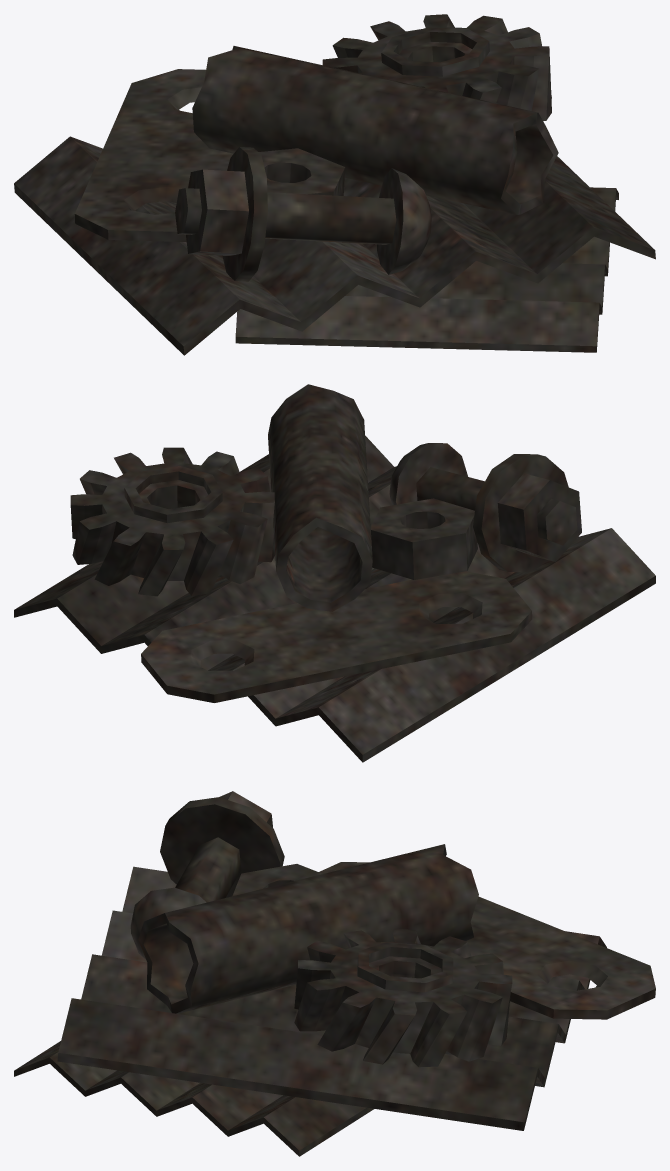
Rendered from scrap_metal_mx_1.obj.
3 renders of one model, top to bottom at view 1: azimuth 30°, elevation 25°; view 2: azimuth 150°, elevation 25°; view 3: azimuth 270°, elevation 25°, orthographic. The views are drawn at different scales.
Visible parts, largest first — view 1: scrap_metal_mx_1; view 2: scrap_metal_mx_1; view 3: scrap_metal_mx_1.
Boxes of the visible parts, left/top/right/bottom form: scrap_metal_mx_1: left=14, top=14, right=655, bottom=355; scrap_metal_mx_1: left=14, top=384, right=655, bottom=762; scrap_metal_mx_1: left=14, top=791, right=655, bottom=1156.
Size of the model in its own units: 0.3174 by 0.106 by 0.3591.
